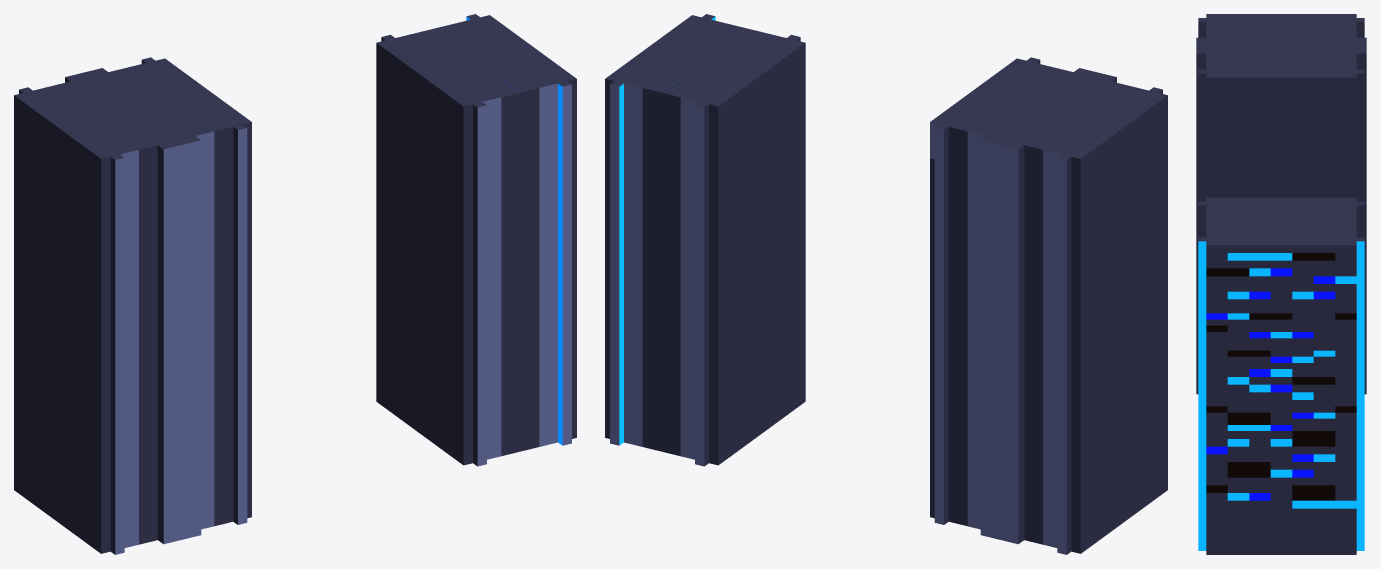
File: house3.glb
The picture shows the model from 3 angles, left to right: view 1: azimuth 30°, elevation 25°; view 2: azimuth 150°, elevation 25°; view 3: azimuth 270°, elevation 25°; orthographic projection. The views are drawn at different scales.
Parts seen in each view (by area): view 1: 立方体, 立方体.001; view 2: 立方体, 立方体.001; view 3: 立方体.001, 立方体.
Part boxes in pixels (left/top/right/bottom): 立方体: left=14, top=57, right=251, bottom=554; 立方体.001: left=376, top=14, right=576, bottom=466; 立方体: left=930, top=57, right=1167, bottom=554; 立方体.001: left=605, top=14, right=805, bottom=466; 立方体.001: left=1198, top=197, right=1364, bottom=554; 立方体: left=1196, top=14, right=1366, bottom=394.
Size of the model in its own units: 63.03 by 50 by 22.66.
